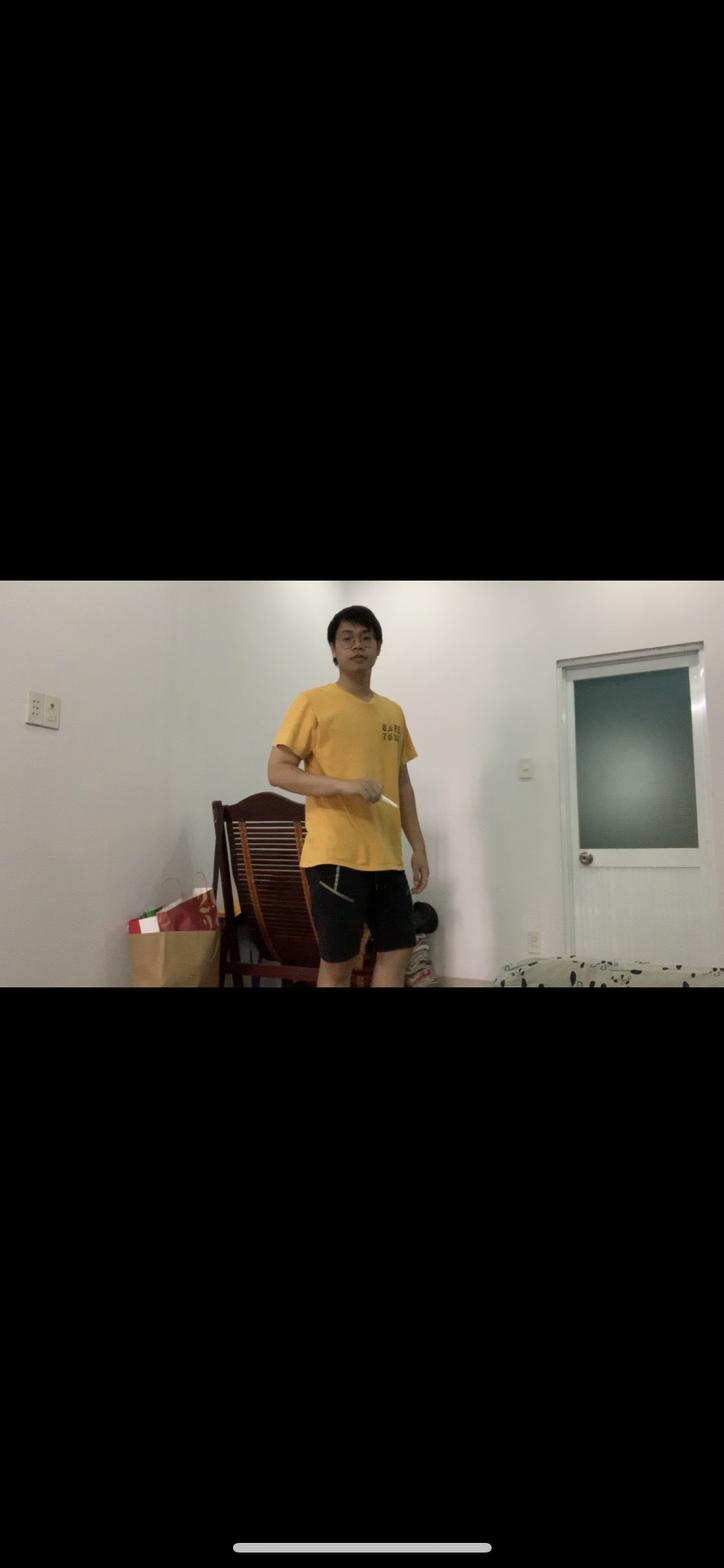cigarette: (380, 794, 402, 812)
person: (270, 604, 429, 982)
